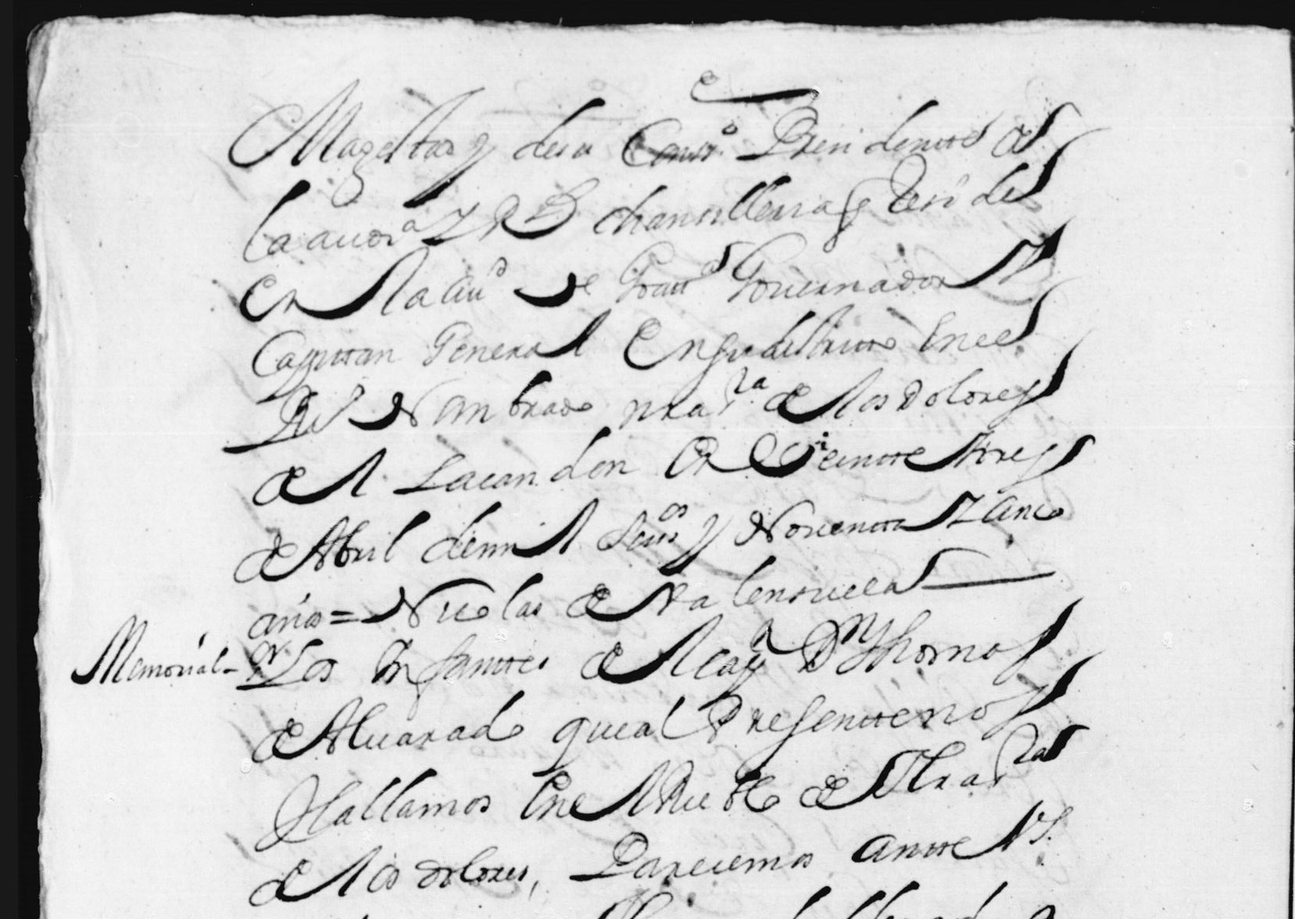lacandon: (393, 425, 639, 495)
